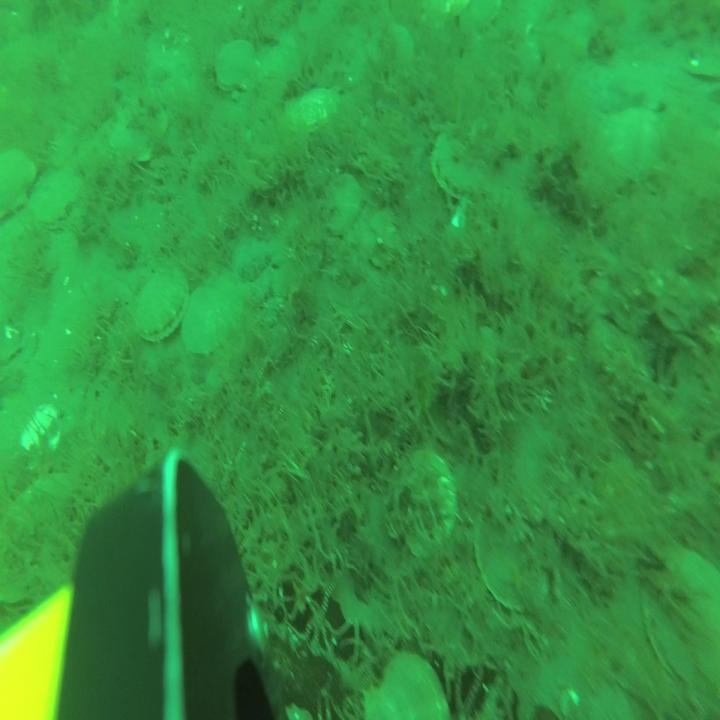scallop: (642, 545, 720, 682), (471, 492, 545, 606), (360, 649, 448, 720), (176, 277, 244, 356), (395, 449, 452, 543), (130, 266, 190, 340), (431, 134, 490, 200), (108, 102, 169, 165), (284, 90, 340, 139), (0, 149, 35, 218), (218, 39, 260, 94), (322, 170, 359, 229), (22, 406, 60, 457), (456, 0, 500, 38)
